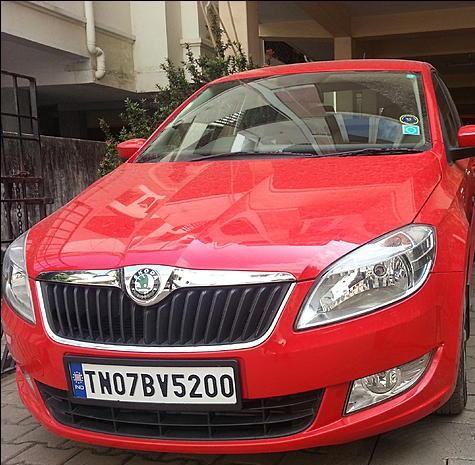TN07BV5200: (66, 360, 238, 406)
